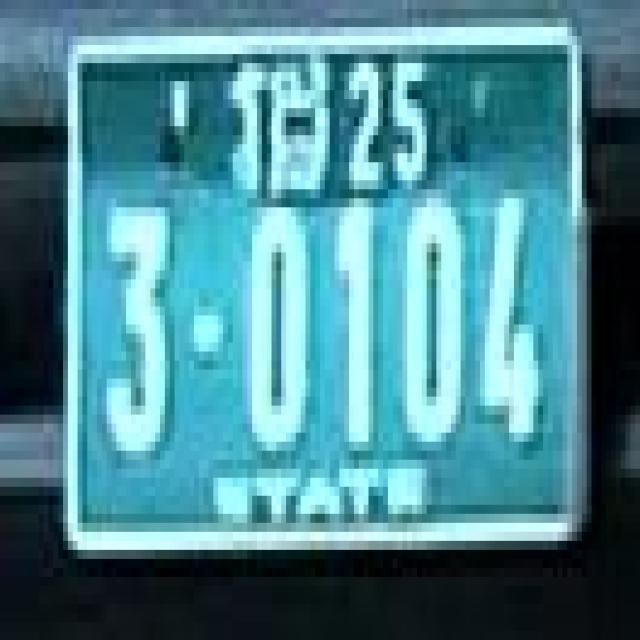State: (233, 54, 332, 204)
